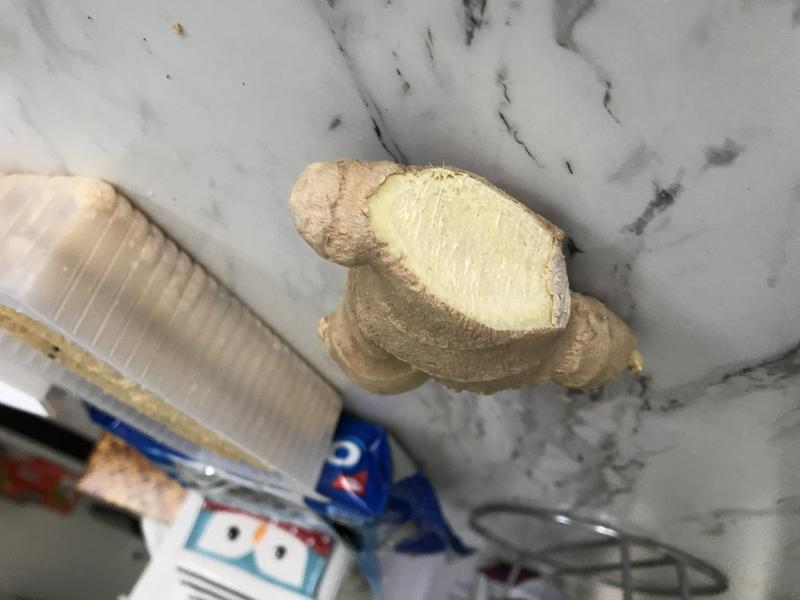ginger: (283, 145, 659, 409)
